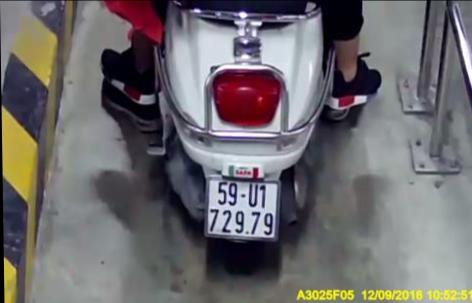LP: (205, 174, 279, 242)
